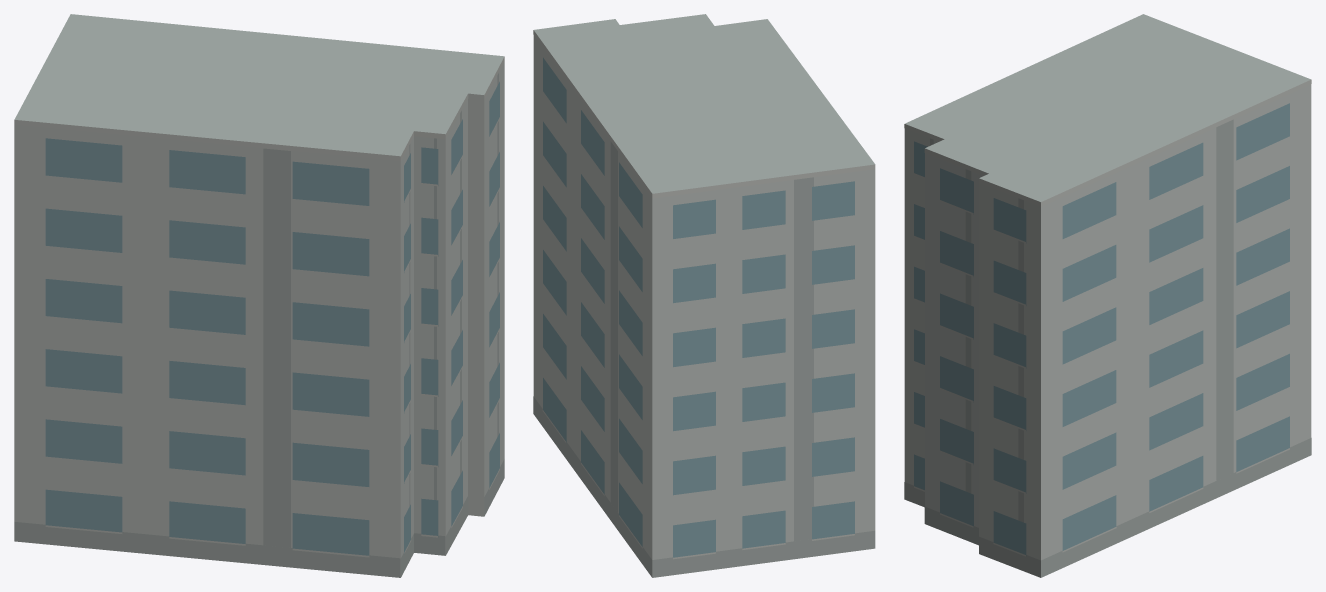
The model's file is survey-upis-32842141.glb.
3 views of the same model, side by side, from view 1: azimuth 30°, elevation 25°; view 2: azimuth 150°, elevation 25°; view 3: azimuth 270°, elevation 25° (orthographic). The views are drawn at different scales.
Visible parts, largest first — view 1: survey-upis-32842141.tmp; view 2: survey-upis-32842141.tmp; view 3: survey-upis-32842141.tmp.
Part boxes in pixels (bbox=[...]): survey-upis-32842141.tmp: bbox=[14, 14, 504, 577]; survey-upis-32842141.tmp: bbox=[533, 14, 875, 577]; survey-upis-32842141.tmp: bbox=[904, 14, 1311, 577].
Size of the model in its own units: 21.28 by 19.8 by 19.44.
